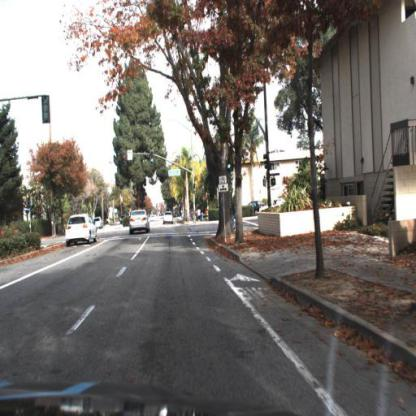car: (65, 213, 99, 249), (129, 204, 155, 238), (245, 193, 267, 218), (163, 209, 175, 225)
pedestrian: (199, 208, 202, 223), (202, 207, 204, 222)
trafficLight-Green: (148, 148, 157, 169), (190, 181, 200, 196), (148, 152, 155, 170), (193, 180, 198, 197)
trafficLight-RedLeft: (121, 153, 129, 174), (26, 192, 32, 211)
